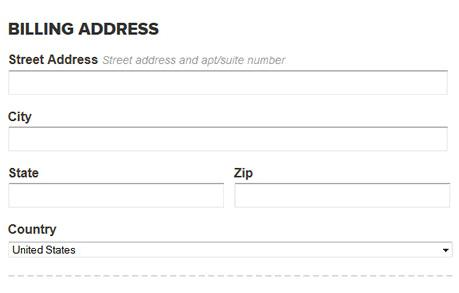field: (5, 69, 451, 96), (4, 127, 451, 152), (5, 181, 226, 208), (234, 181, 451, 208)
